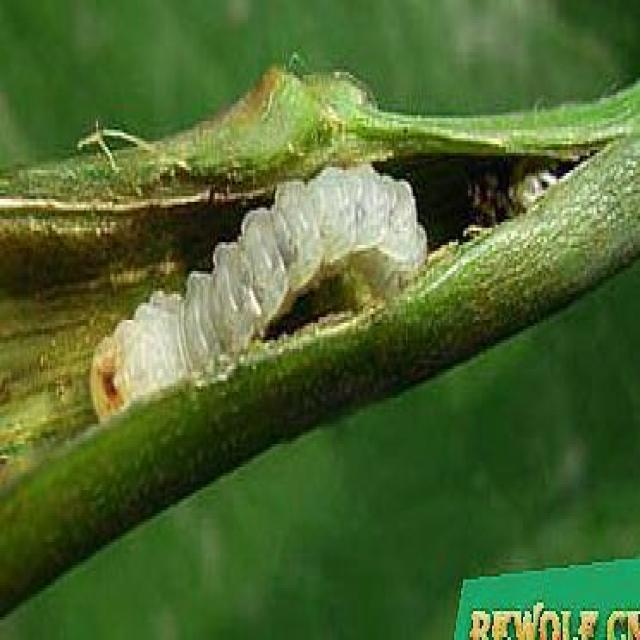peach borer: (81, 152, 451, 415)
